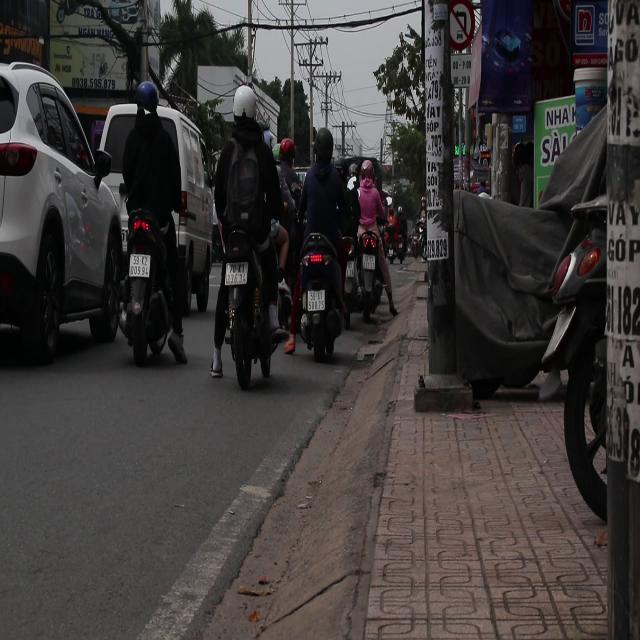car: (0, 55, 127, 367)
motorbike: (106, 176, 194, 386), (216, 218, 298, 395), (292, 236, 348, 362), (350, 212, 395, 345)
